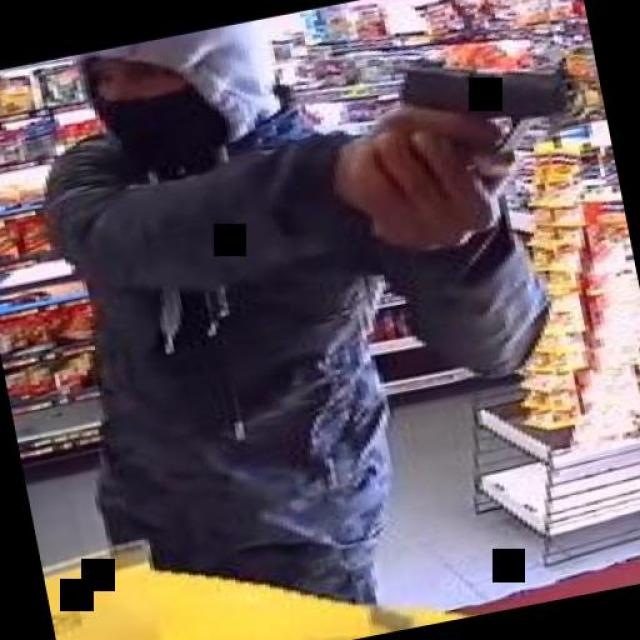gun: (377, 34, 595, 198)
